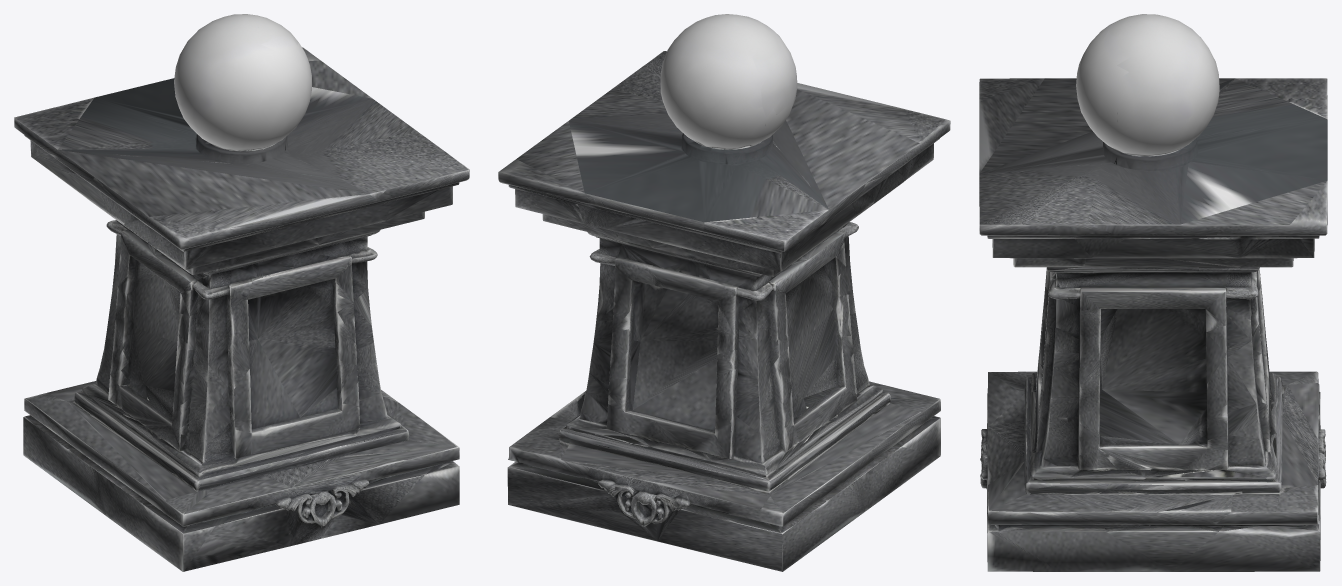
Rendered from pedestal.glb.
3 renders of one model, left to right at view 1: azimuth 30°, elevation 25°; view 2: azimuth 150°, elevation 25°; view 3: azimuth 270°, elevation 25°, orthographic. The views are drawn at different scales.
Visible parts, largest first — view 1: pedestal; view 2: pedestal; view 3: pedestal.
Boxes of the visible parts, <box> form: pedestal: <box>14,14,469,571</box>; pedestal: <box>498,14,950,571</box>; pedestal: <box>979,14,1327,571</box>.
Size of the model in its own units: 0.7867 by 1.2 by 0.7886.
Materials: 1 (1 with a texture image).
